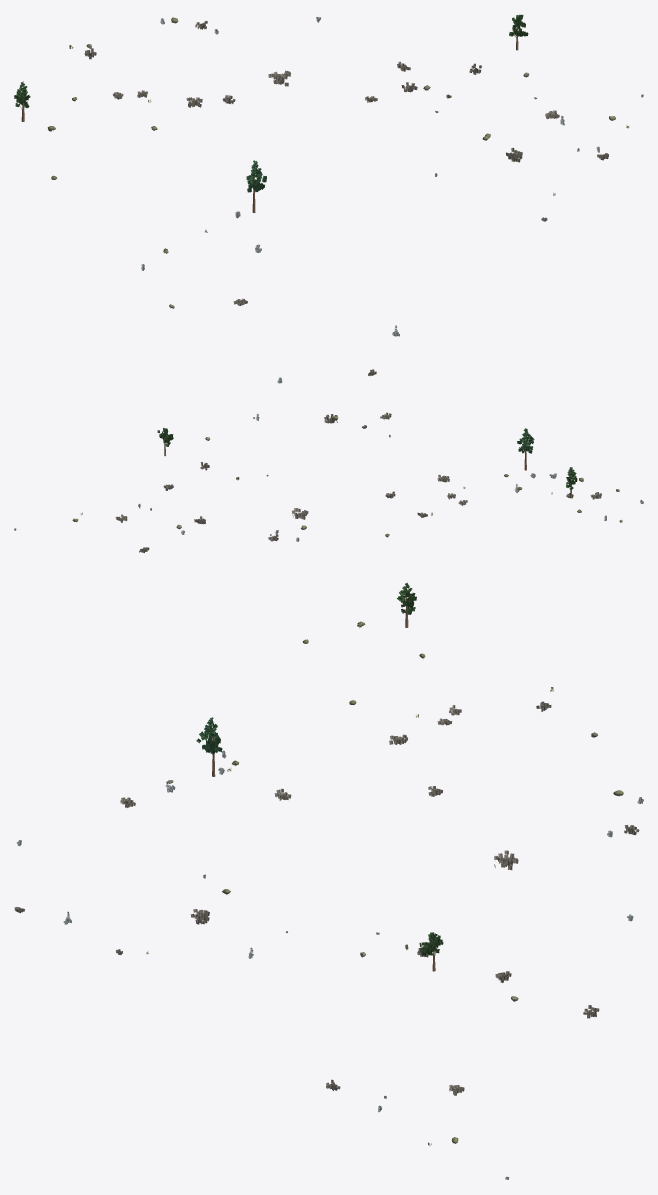
File: coast_land_scatter_c11_25.glb
3 views of the same model, one above another, from view 1: azimuth 30°, elevation 25°; view 2: azimuth 150°, elevation 25°; view 3: azimuth 270°, elevation 25° (orthographic). The views are drawn at different scales.
Visible parts, largest first — view 1: coast_land_scatter_c11_25; view 2: coast_land_scatter_c11_25; view 3: coast_land_scatter_c11_25.
Boxes of the visible parts, x1,y1,x2,y2 form: coast_land_scatter_c11_25: (14, 14, 643, 383); coast_land_scatter_c11_25: (14, 412, 643, 552); coast_land_scatter_c11_25: (14, 582, 643, 1179).
Size of the model in its own units: 183 by 53.92 by 131.
